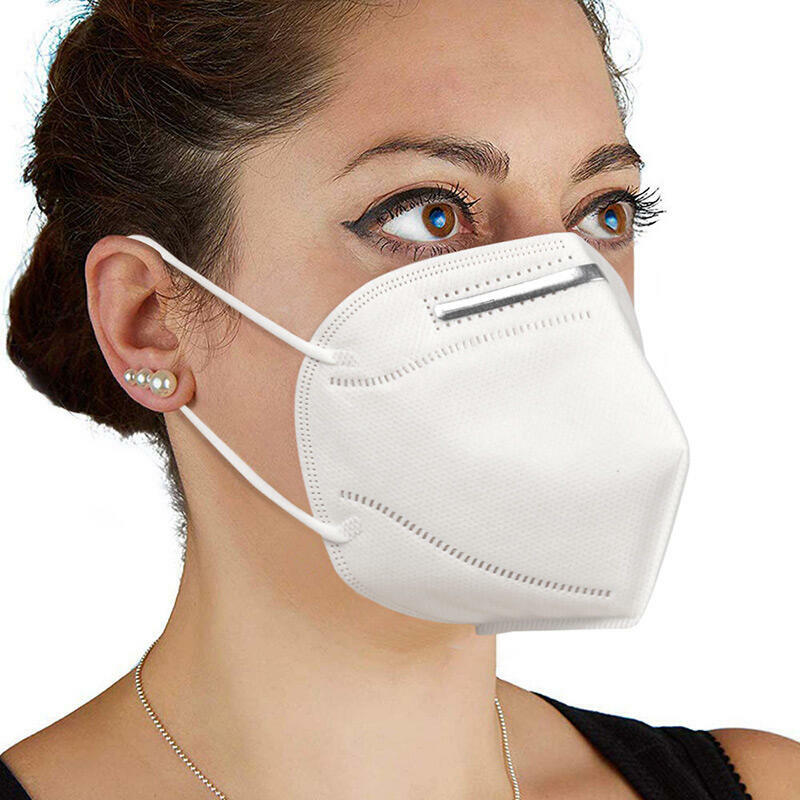n95: (252, 228, 693, 640)
